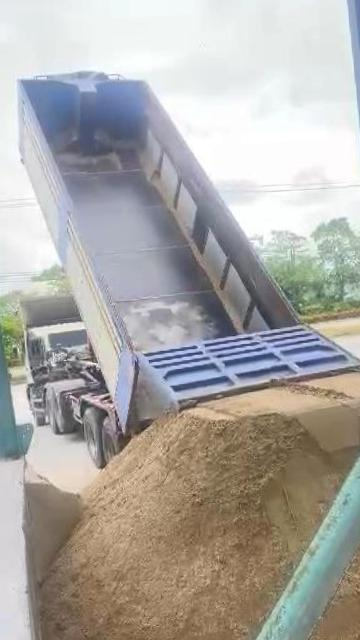sand: (43, 388, 360, 640), (271, 460, 360, 640), (26, 470, 82, 582), (303, 374, 360, 400)
